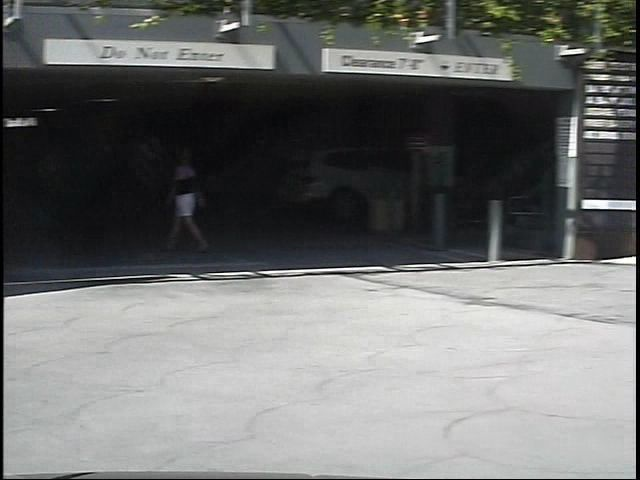person: (149, 145, 201, 264)
